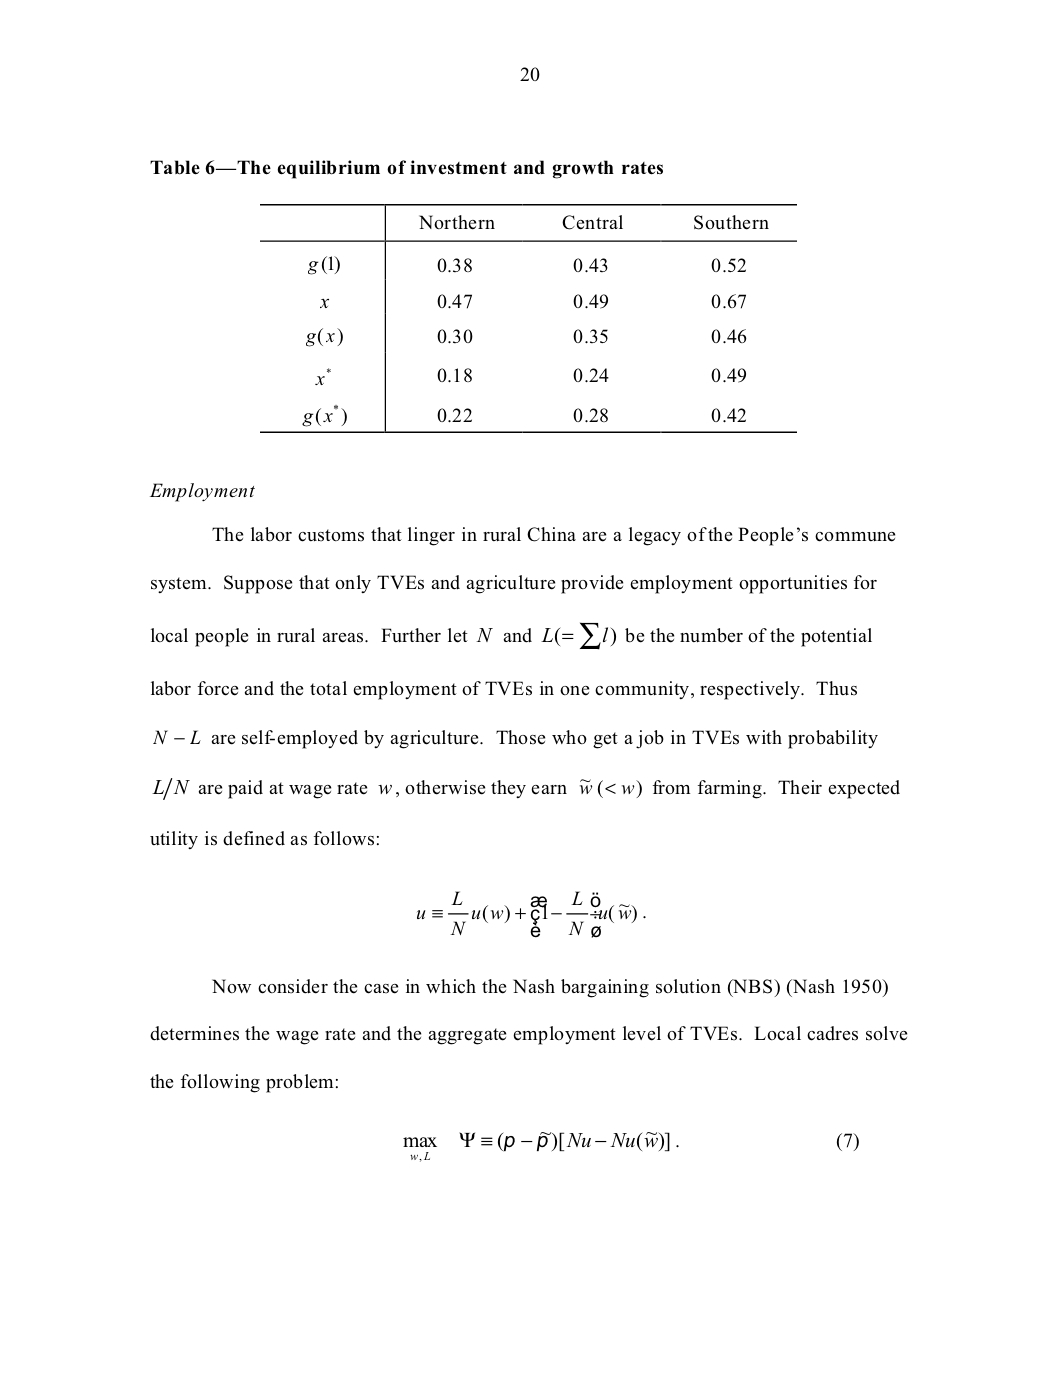Table: (260, 202, 796, 434)
formula: (403, 1131, 858, 1162), (416, 890, 645, 938)
